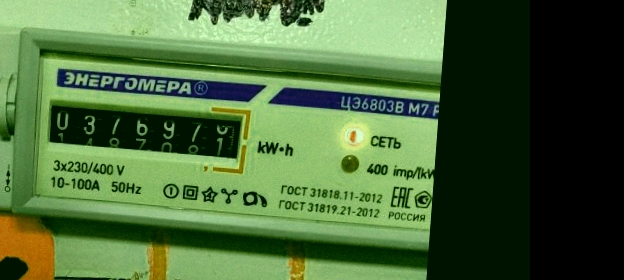0: (53, 108, 70, 131)
1: (213, 135, 223, 157)
3: (81, 113, 96, 135)
6: (133, 113, 150, 137)
7: (107, 112, 123, 136), (187, 118, 202, 142)
9: (160, 117, 175, 140)
screen: (35, 90, 254, 177)
